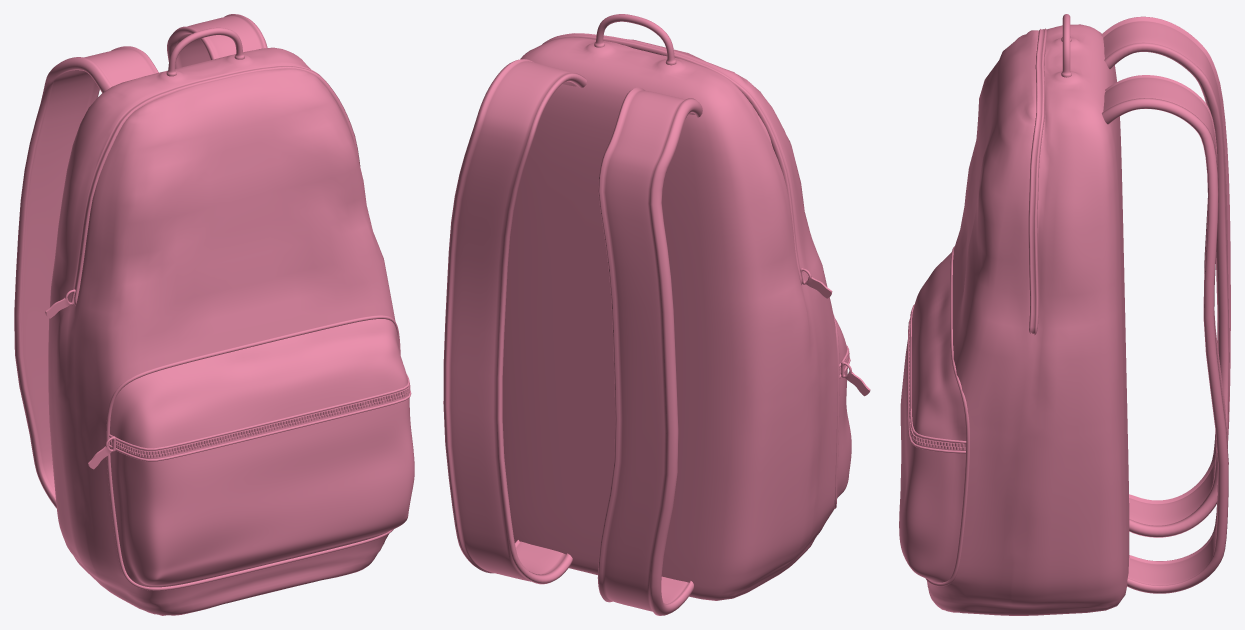
The model's file is backpack_pink.glb.
The picture shows the model from 3 angles, left to right: view 1: azimuth 30°, elevation 25°; view 2: azimuth 150°, elevation 25°; view 3: azimuth 270°, elevation 25°; orthographic projection. The views are drawn at different scales.
Visible parts, largest first — view 1: Cube, Cube.001, Cube.002, Cube.003, Cube.009, Cube.007, Cube.005, Cube.004; view 2: Cube, Cube.002, Cube.009, Cube.001, Cube.004; view 3: Cube, Cube.002, Cube.001, Cube.009, Cube.003, Cube.005, Cube.004, Cube.007.
Part boxes in pixels (x1=…): Cube: x1=48, y1=47, x2=395, y2=615; Cube.001: x1=110, y1=319, x2=414, y2=587; Cube.002: x1=14, y1=14, x2=267, y2=508; Cube.003: x1=106, y1=315, x2=400, y2=590; Cube.009: x1=71, y1=64, x2=360, y2=305; Cube.007: x1=110, y1=384, x2=410, y2=457; Cube.005: x1=109, y1=374, x2=411, y2=461; Cube.004: x1=166, y1=27, x2=244, y2=76; Cube: x1=502, y1=37, x2=837, y2=600; Cube.002: x1=443, y1=59, x2=702, y2=615; Cube.009: x1=542, y1=33, x2=802, y2=284; Cube.001: x1=835, y1=318, x2=851, y2=498; Cube.004: x1=594, y1=14, x2=676, y2=65; Cube: x1=927, y1=24, x2=1129, y2=615; Cube.002: x1=1101, y1=16, x2=1230, y2=593; Cube.001: x1=899, y1=252, x2=966, y2=582; Cube.009: x1=1028, y1=28, x2=1046, y2=334; Cube.003: x1=925, y1=246, x2=970, y2=586; Cube.005: x1=907, y1=304, x2=966, y2=453; Cube.004: x1=1061, y1=14, x2=1071, y2=77; Cube.007: x1=909, y1=312, x2=965, y2=450.
Size of the model in its own units: 1.13 by 1.71 by 0.9532.
